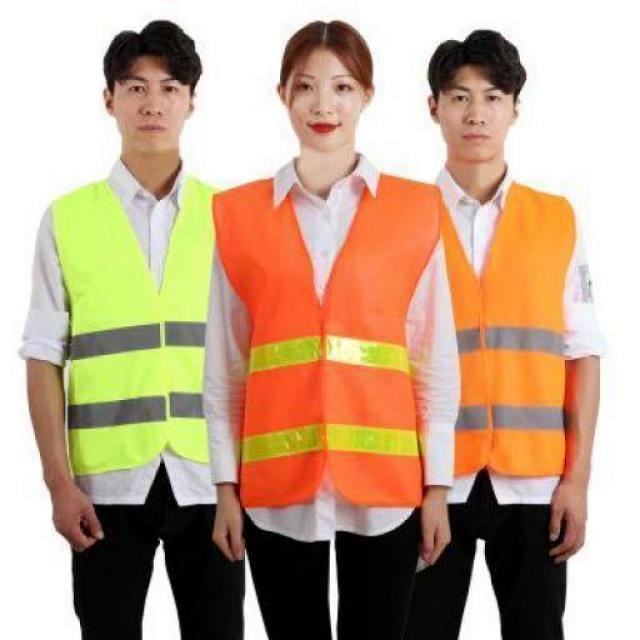no_head_wear: (428, 30, 525, 101), (104, 20, 201, 91), (279, 21, 372, 91)
person: (205, 21, 459, 639), (22, 21, 242, 639), (408, 30, 601, 639)
